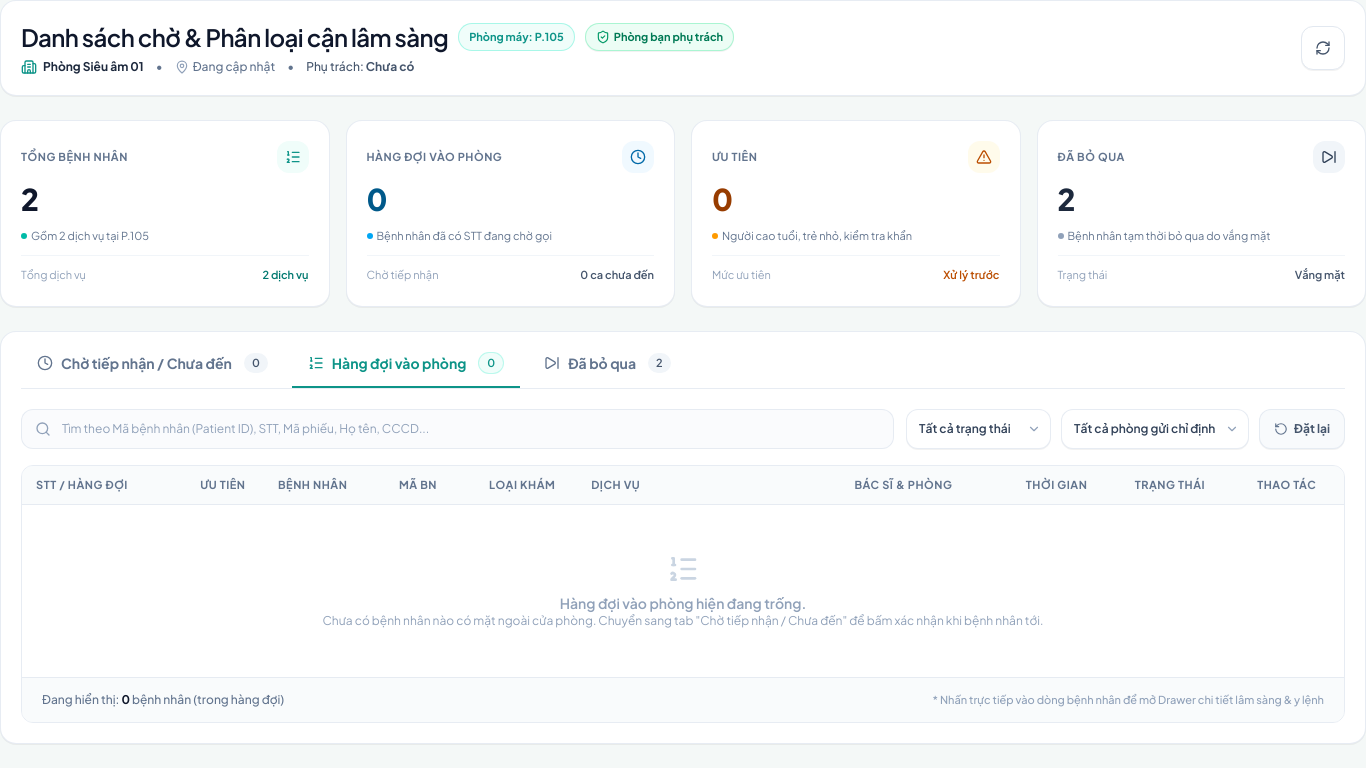
Test: TechnicianQueuePage – UC-66 Perform Paraclinical Order › Tab 3: Đã bỏ qua (Skipped Patients) & UC-46 Tiếp nhận lại › renders skipped patients sorted by skip timestamp ascending (oldest first)
Click the button "Đã bỏ qua 2": (607, 370) [528,353,687,387]
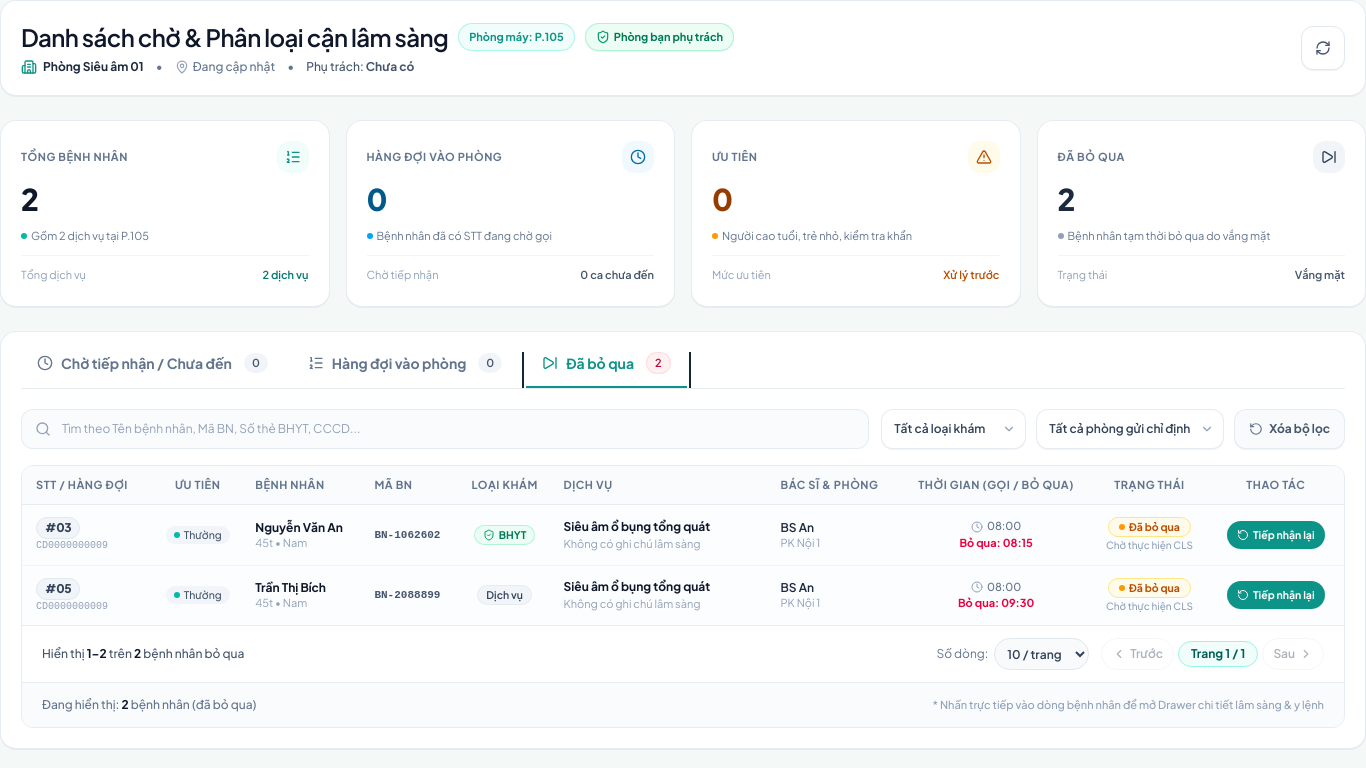
Check: the text "Nguyễn Văn An" is shown, box [255,520,352,536]
Check: the text "Bỏ qua: 08:15" is shown, box [960,536,1033,551]
Check: the text "Trần Thị Bích" is shown, box [255,580,326,595]
